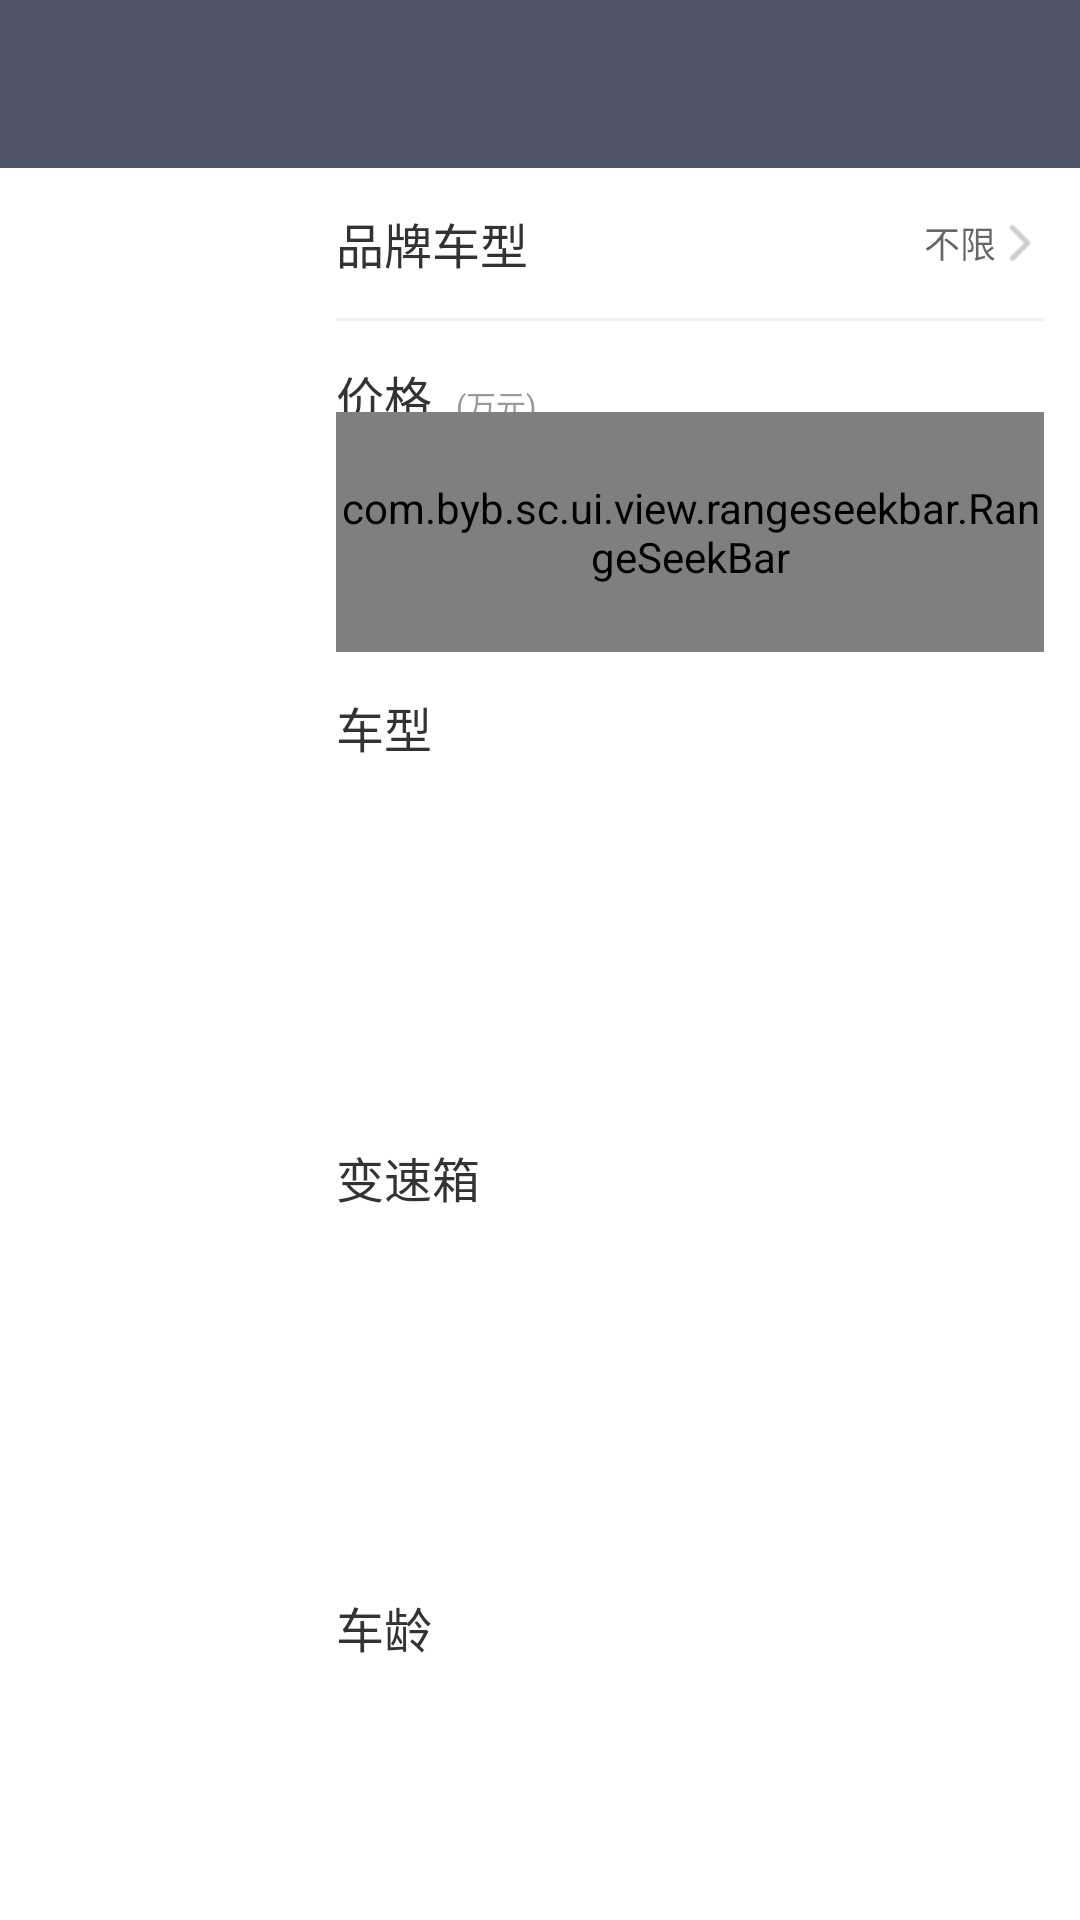

Icon click points for this 1080px x 1920px phone screenshot, format (x=x, y=y):
right: (x=1020, y=243)
